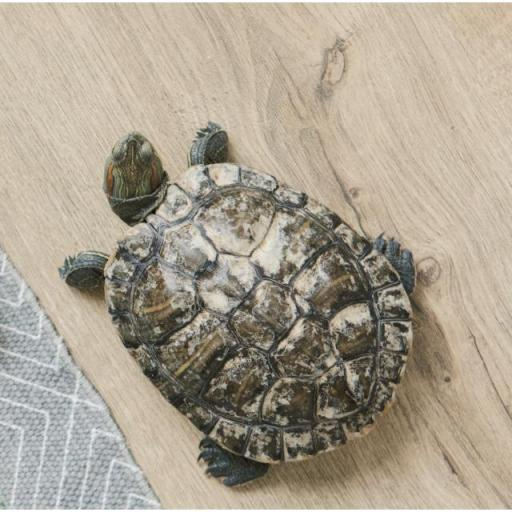turtle: (58, 122, 414, 493)
